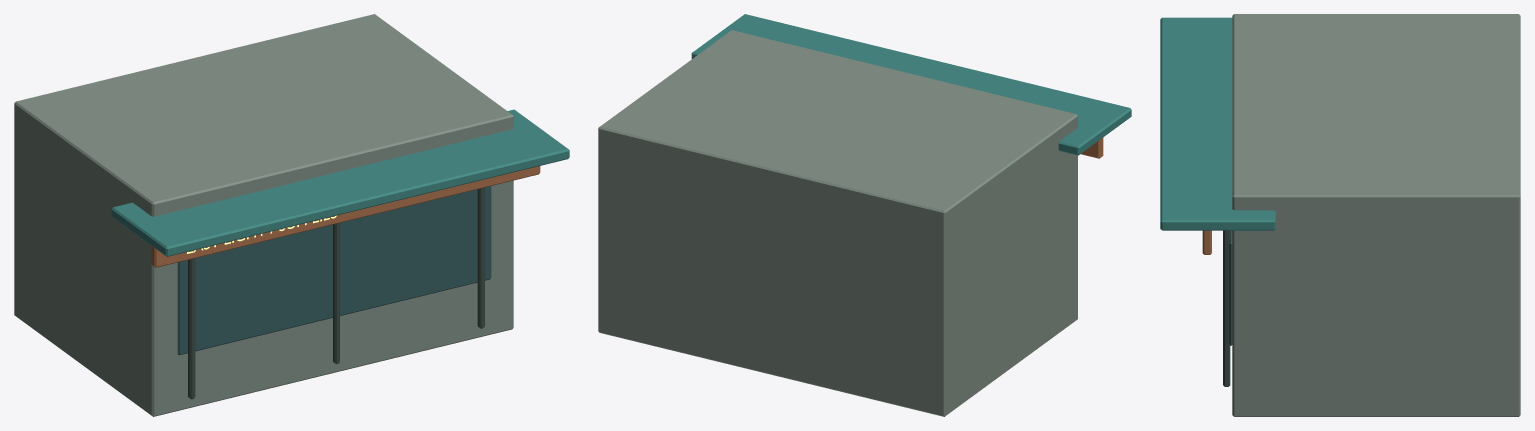
File: shop_front.glb
The picture shows the model from 3 angles, left to right: view 1: azimuth 30°, elevation 25°; view 2: azimuth 150°, elevation 25°; view 3: azimuth 270°, elevation 25°; orthographic projection. The views are drawn at different scales.
Visible parts, largest first — view 1: shop_front.001; view 2: shop_front.001; view 3: shop_front.001.
Boxes of the visible parts, left/top/right/bottom form: shop_front.001: left=14, top=14, right=569, bottom=416; shop_front.001: left=598, top=14, right=1131, bottom=416; shop_front.001: left=1160, top=14, right=1520, bottom=416.
Size of the model in its own units: 6.7 by 3.4 by 5.
